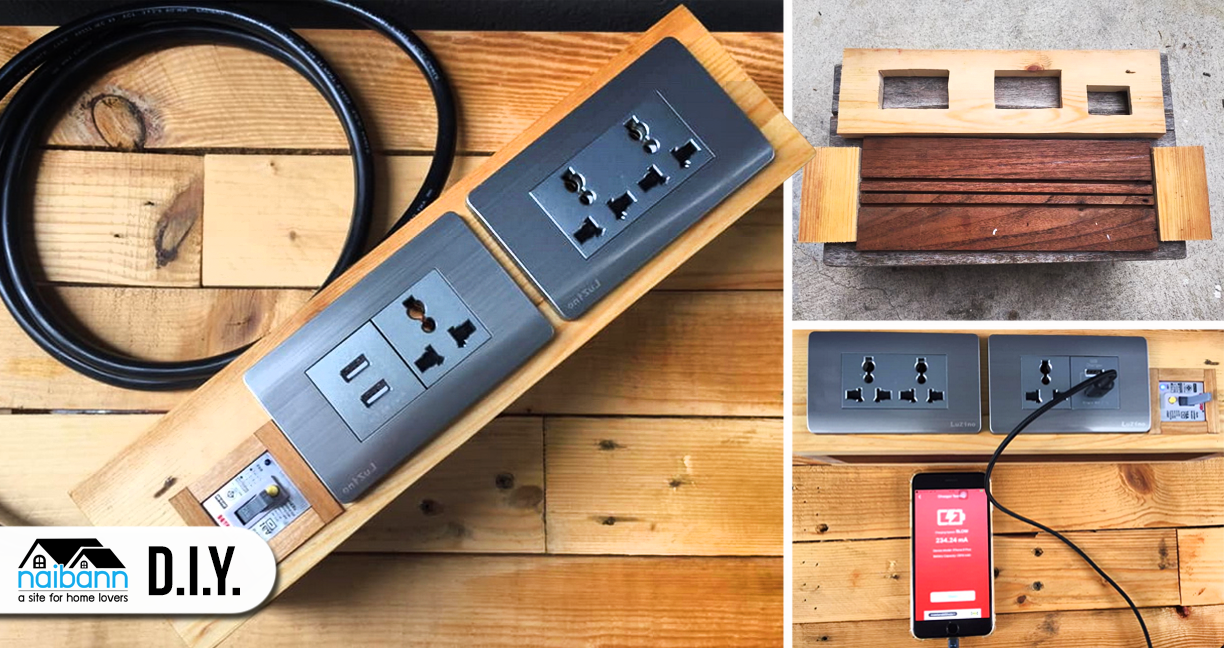Three_eye_plug: (252, 232, 548, 487), (474, 45, 762, 305), (807, 326, 989, 445), (979, 343, 1153, 442)
